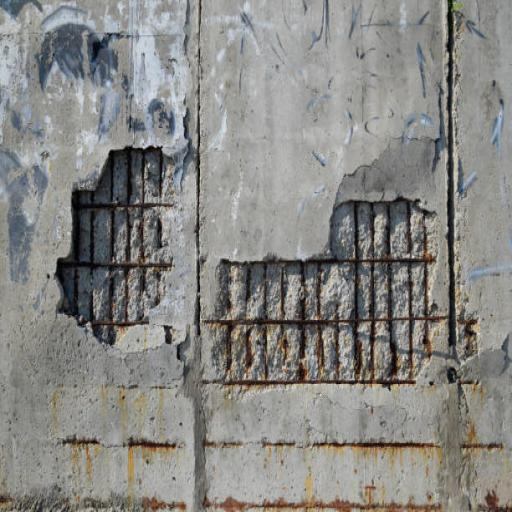spalling: (201, 198, 448, 398), (54, 147, 177, 348)
